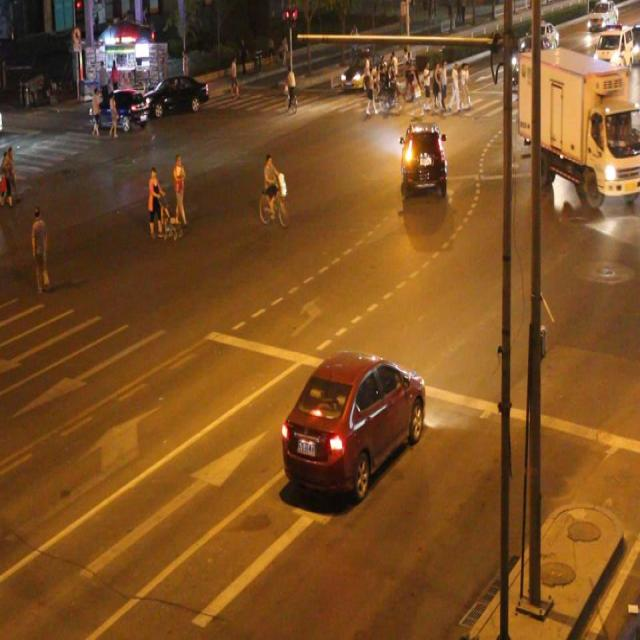bus: (516, 47, 640, 195)
car: (280, 347, 425, 489), (397, 121, 447, 195), (142, 76, 208, 116), (90, 91, 150, 133), (542, 86, 581, 134)
